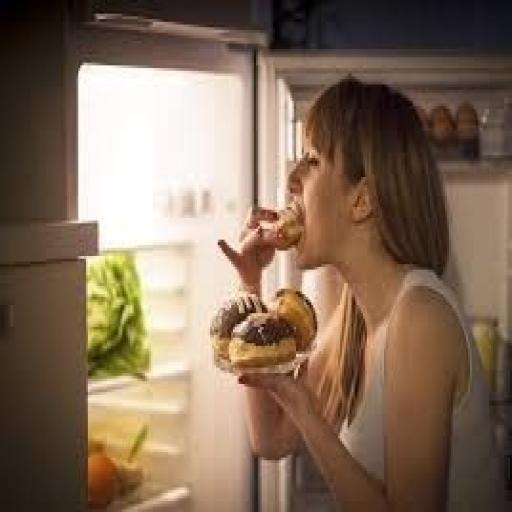eating: (214, 71, 502, 509)
